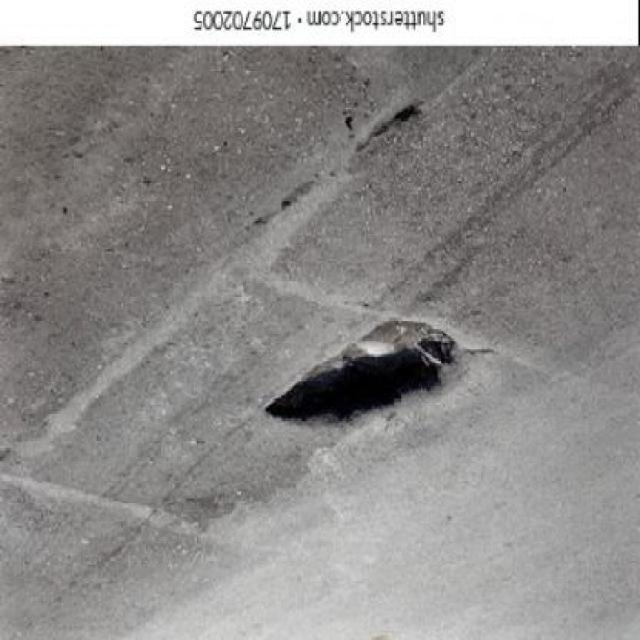pothole: (244, 290, 490, 448)
